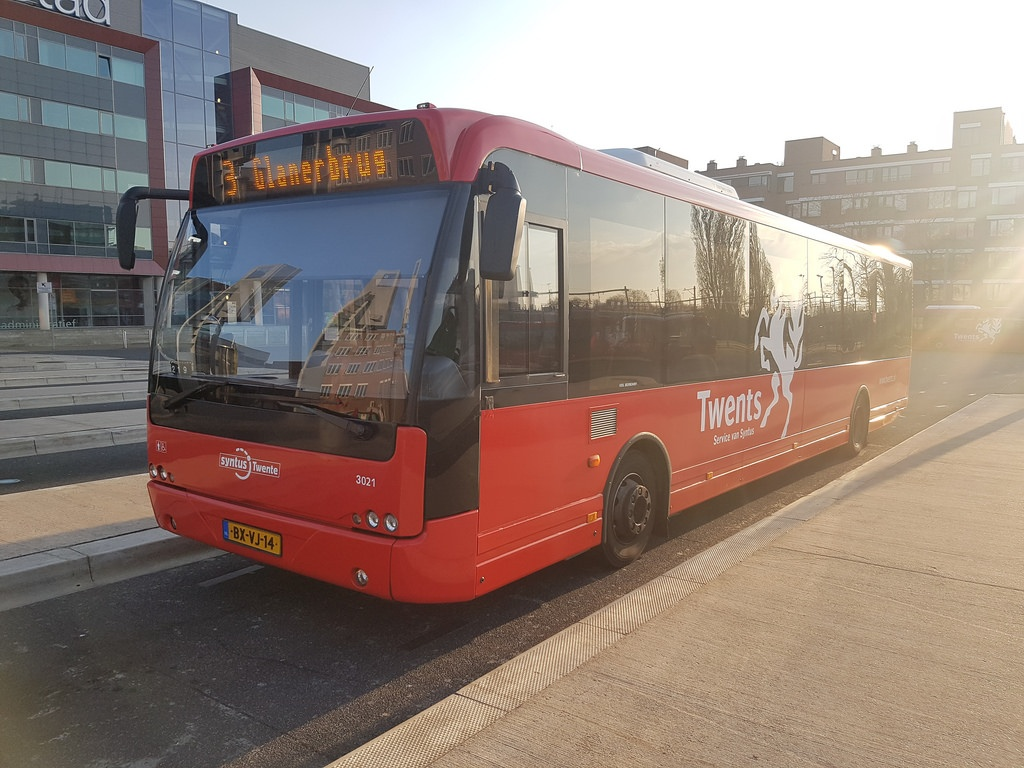bus: (108, 108, 922, 601)
